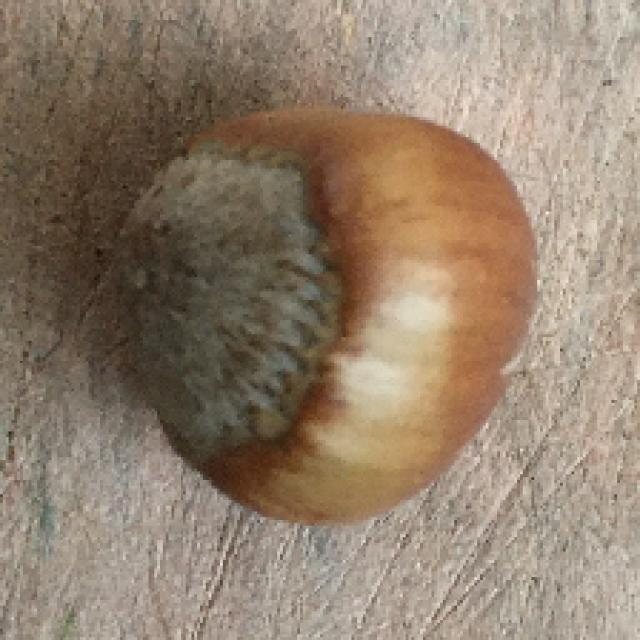qualityHazelnut: (110, 100, 544, 528)
